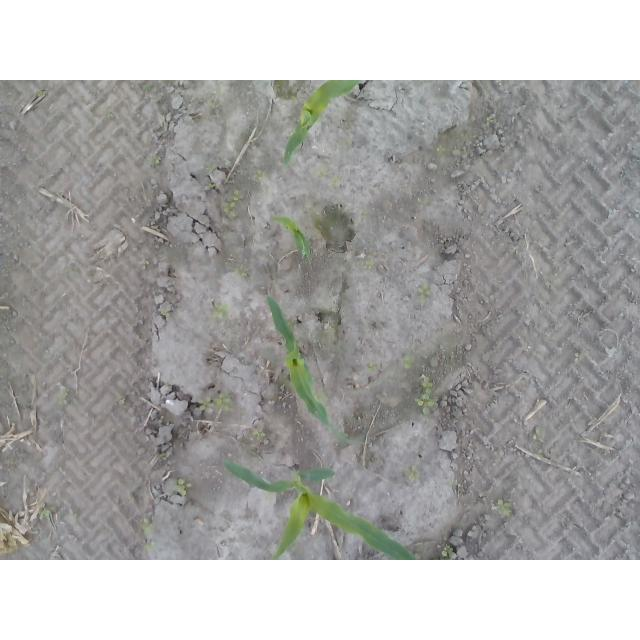Maize: (224, 460, 417, 561), (267, 296, 358, 448), (283, 80, 365, 164), (268, 214, 312, 257)
Weeds: (196, 393, 232, 416), (415, 380, 437, 417), (175, 479, 194, 498), (496, 498, 514, 518), (221, 193, 239, 211), (418, 283, 430, 305), (214, 303, 228, 317), (407, 465, 418, 480), (441, 545, 452, 560), (402, 355, 412, 370), (253, 431, 268, 440), (147, 158, 161, 167), (485, 116, 495, 128), (256, 168, 265, 180), (39, 510, 49, 520), (436, 145, 446, 153)
